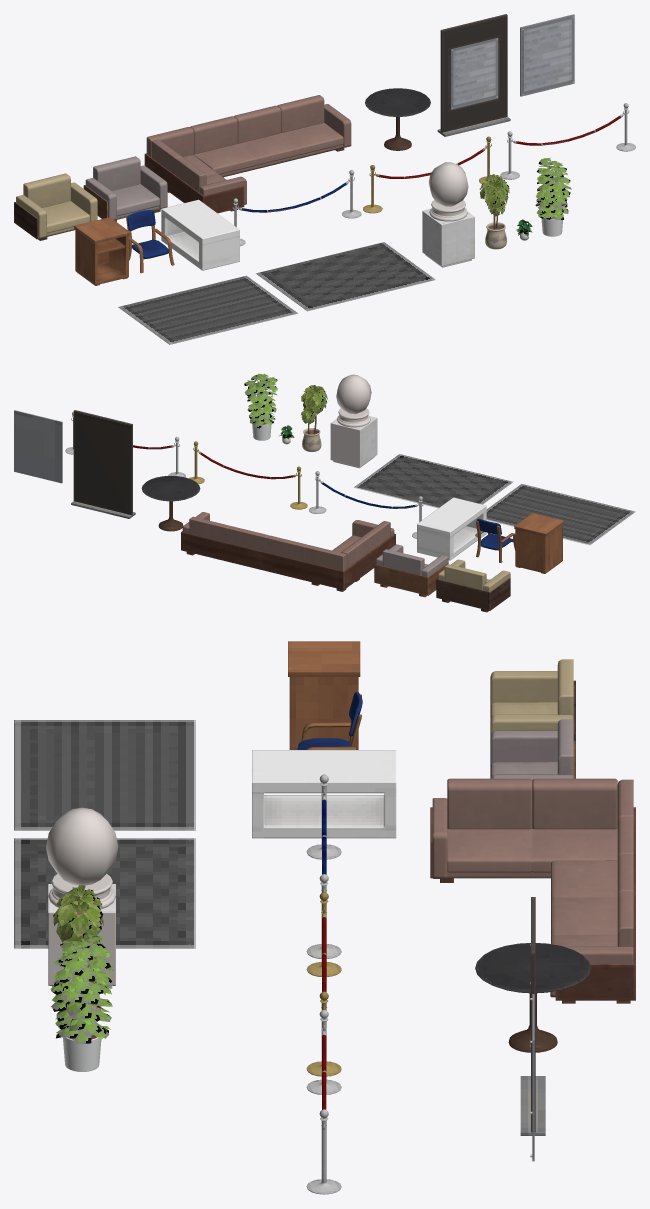
File: a_com_building_b01_assets.gltf
The picture shows the model from 3 angles, top to bottom: view 1: azimuth 30°, elevation 25°; view 2: azimuth 150°, elevation 25°; view 3: azimuth 270°, elevation 25°; orthographic projection. The views are drawn at different scales.
Visible parts, largest first — view 1: um_a_com_building_b01_assets_model_a_com_building_b01_assets (×17); view 2: um_a_com_building_b01_assets_model_a_com_building_b01_assets (×17); view 3: um_a_com_building_b01_assets_model_a_com_building_b01_assets (×17).
Part boxes in pixels (bbox=[...]): um_a_com_building_b01_assets_model_a_com_building_b01_assets (×17): bbox=[14, 14, 635, 344]; um_a_com_building_b01_assets_model_a_com_building_b01_assets (×17): bbox=[14, 373, 635, 612]; um_a_com_building_b01_assets_model_a_com_building_b01_assets (×17): bbox=[14, 641, 635, 1194].
Bounding box in the file's own units: 11.77 × 2.11 × 6.52.
21 materials, 21 textured.
